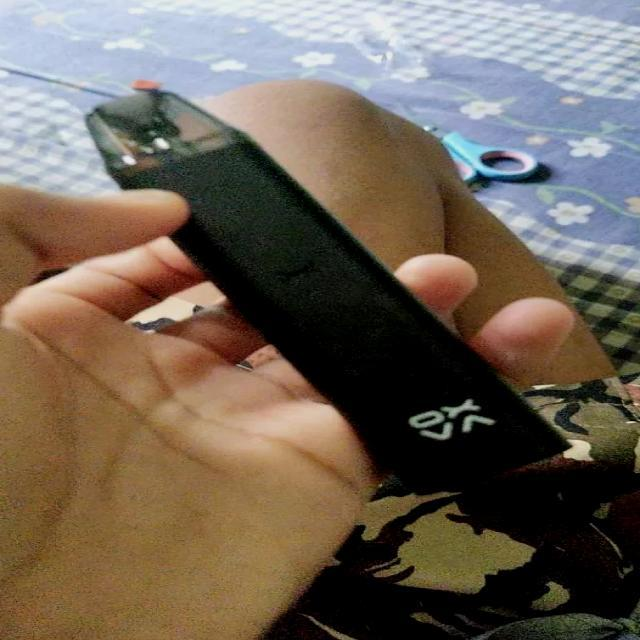Hazard: (82, 90, 576, 500)
